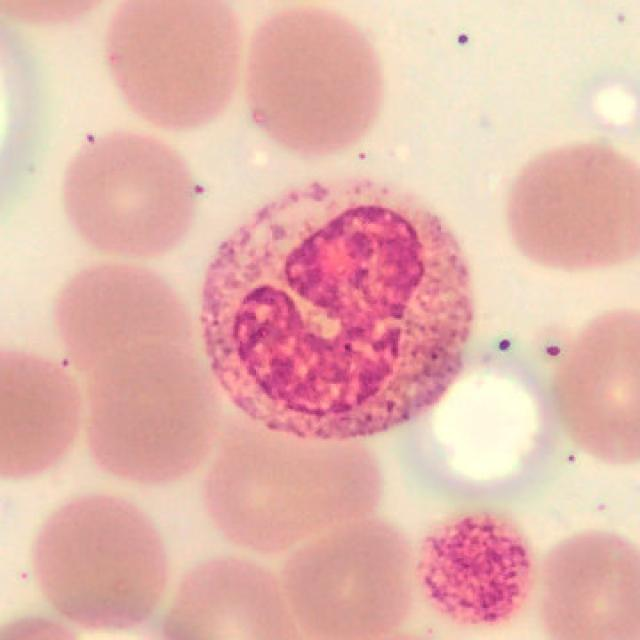Bastonete: (199, 176, 475, 443)
